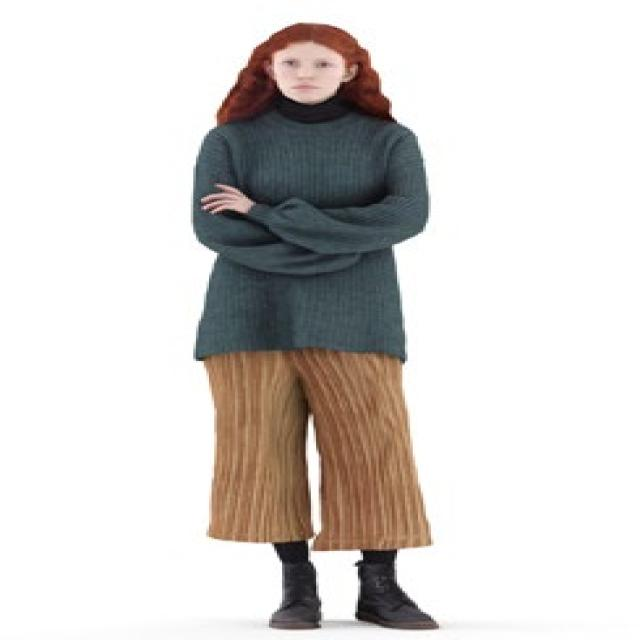standing: (186, 20, 445, 640)
